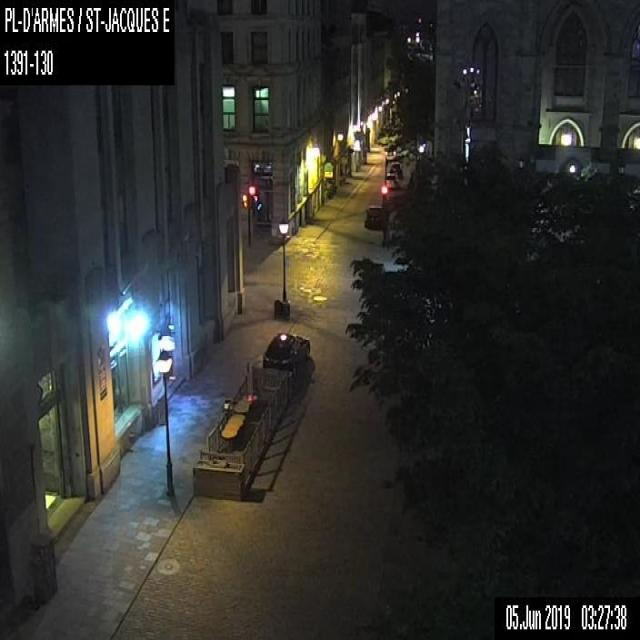vehicle: (261, 329, 311, 372), (363, 202, 385, 230), (389, 162, 402, 178), (385, 172, 397, 188)
